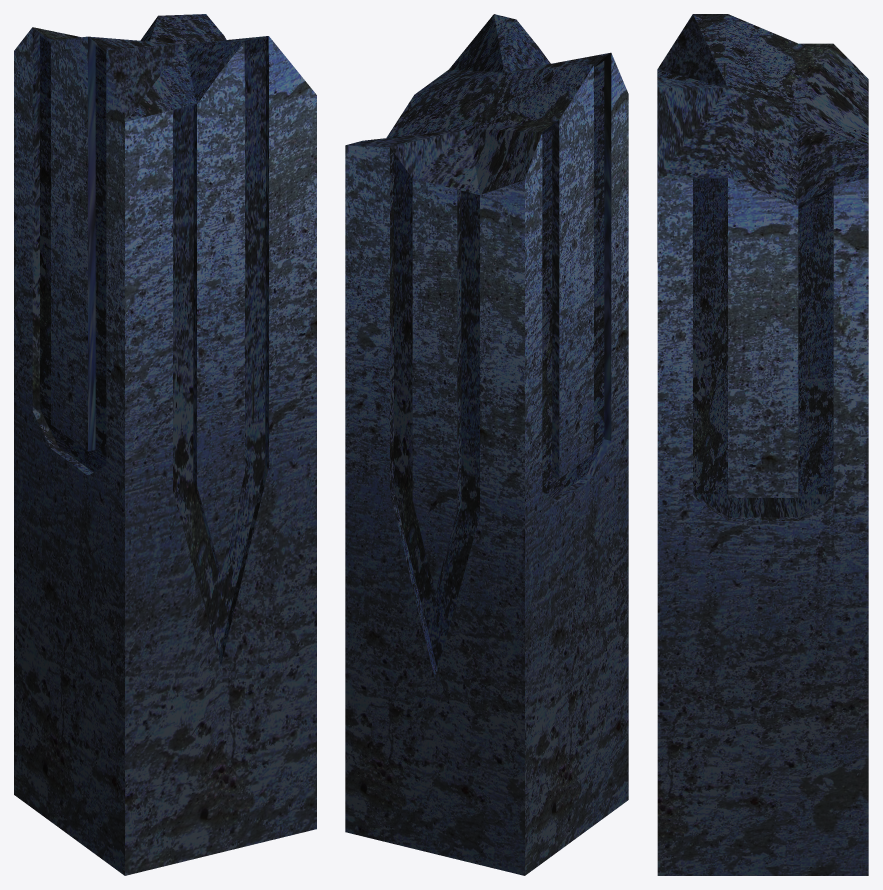
File: pillar2.fbx
The picture shows the model from 3 angles, left to right: view 1: azimuth 30°, elevation 25°; view 2: azimuth 150°, elevation 25°; view 3: azimuth 270°, elevation 25°; orthographic projection. The views are drawn at different scales.
Parts seen in each view (by area): view 1: Cube; view 2: Cube; view 3: Cube.
Part boxes in pixels (bbox=[...]): Cube: bbox=[14, 14, 316, 875]; Cube: bbox=[345, 14, 628, 875]; Cube: bbox=[657, 14, 868, 875].
Bounding box in the file's own units: 2 × 8.08 × 2.
1 material, 1 textured.
